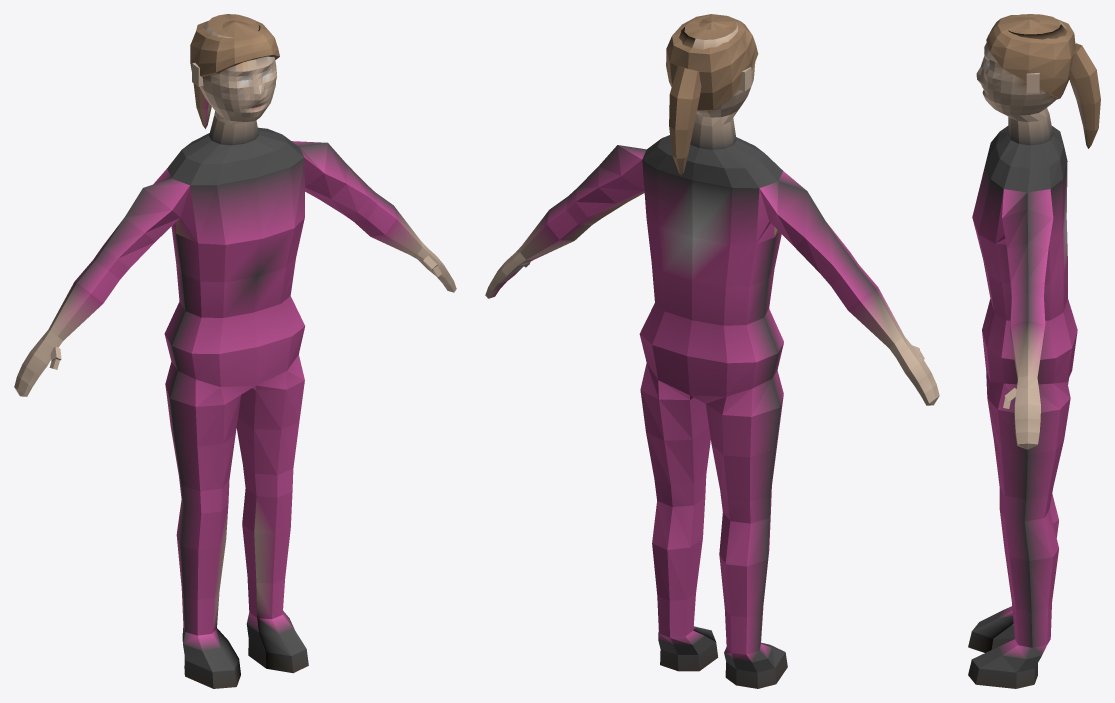
File: char__pessoa__piloto_m05.glb
The picture shows the model from 3 angles, left to right: view 1: azimuth 30°, elevation 25°; view 2: azimuth 150°, elevation 25°; view 3: azimuth 270°, elevation 25°; orthographic projection. The views are drawn at different scales.
Visible parts, largest first — view 1: char__pessoa__piloto_m05; view 2: char__pessoa__piloto_m05; view 3: char__pessoa__piloto_m05.
Boxes of the visible parts, x1,y1,x2,y2 form: char__pessoa__piloto_m05: (14, 14, 456, 688); char__pessoa__piloto_m05: (485, 14, 939, 688); char__pessoa__piloto_m05: (968, 14, 1100, 688).
Size of the model in its own units: 1.19 by 1.67 by 0.3111.
